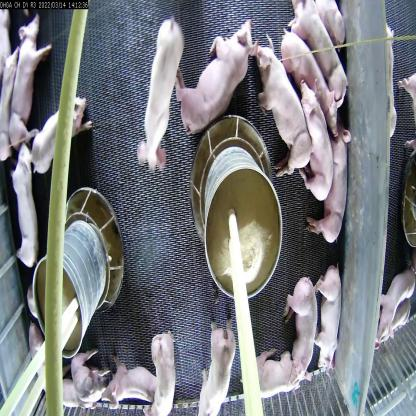Pig: (246, 28, 316, 175), (174, 15, 257, 136), (135, 18, 178, 179), (283, 26, 344, 134), (287, 0, 348, 103), (291, 73, 334, 204), (23, 321, 81, 415), (11, 17, 51, 143), (30, 98, 98, 169), (195, 305, 238, 415), (5, 140, 40, 272), (281, 268, 318, 390), (314, 128, 353, 242), (307, 255, 342, 375), (242, 340, 314, 396), (60, 336, 108, 413), (102, 352, 160, 413), (375, 263, 416, 348), (143, 333, 178, 415)
